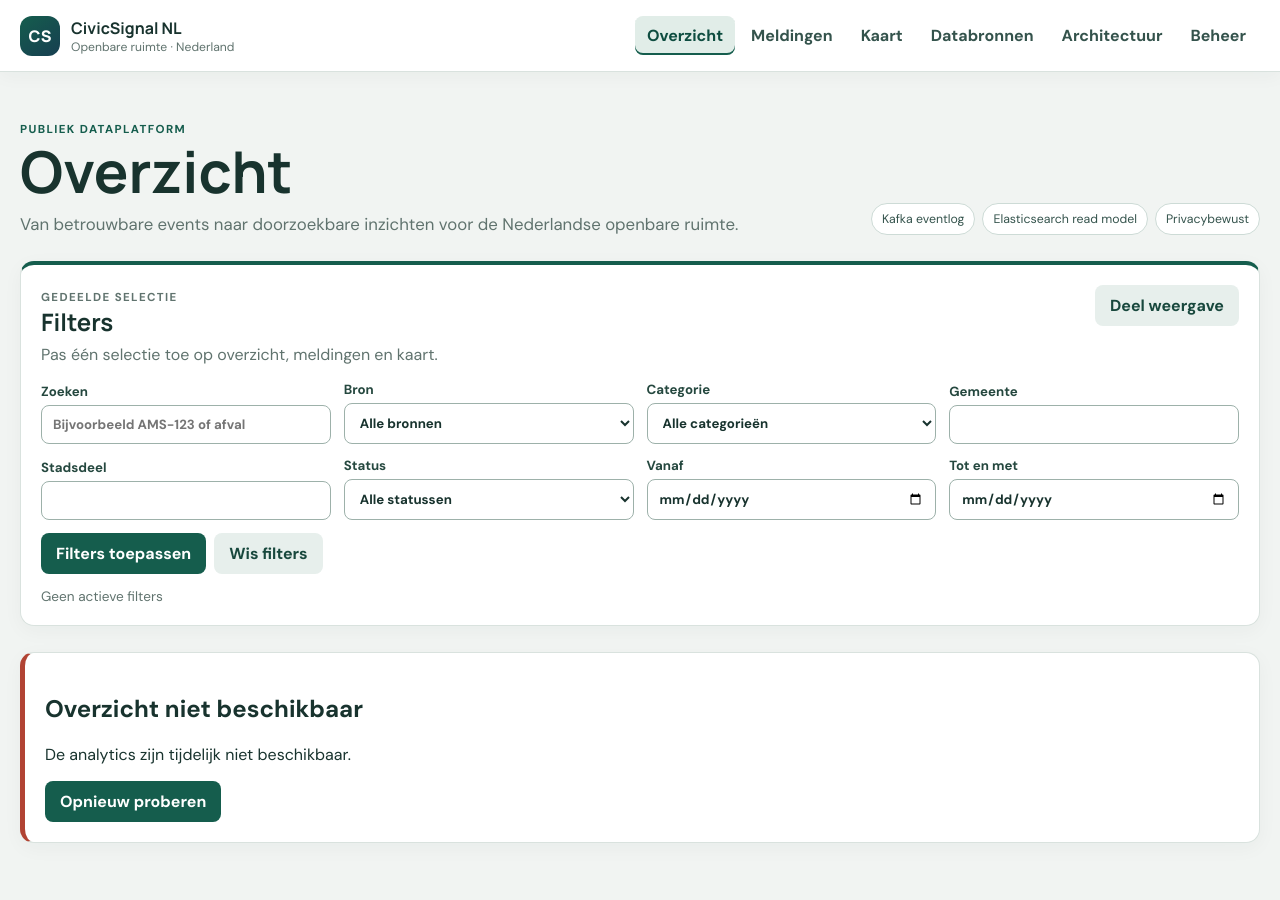
dashboardstate en navigatie › toont nul apart van null en isoleert analyticsfout met retry
Expected: the heading "Overzicht niet beschikbaar" is shown, [45,693,363,724]
Click the button "Opnieuw proberen": click(133, 801) [45,781,221,822]
(page scrolled)
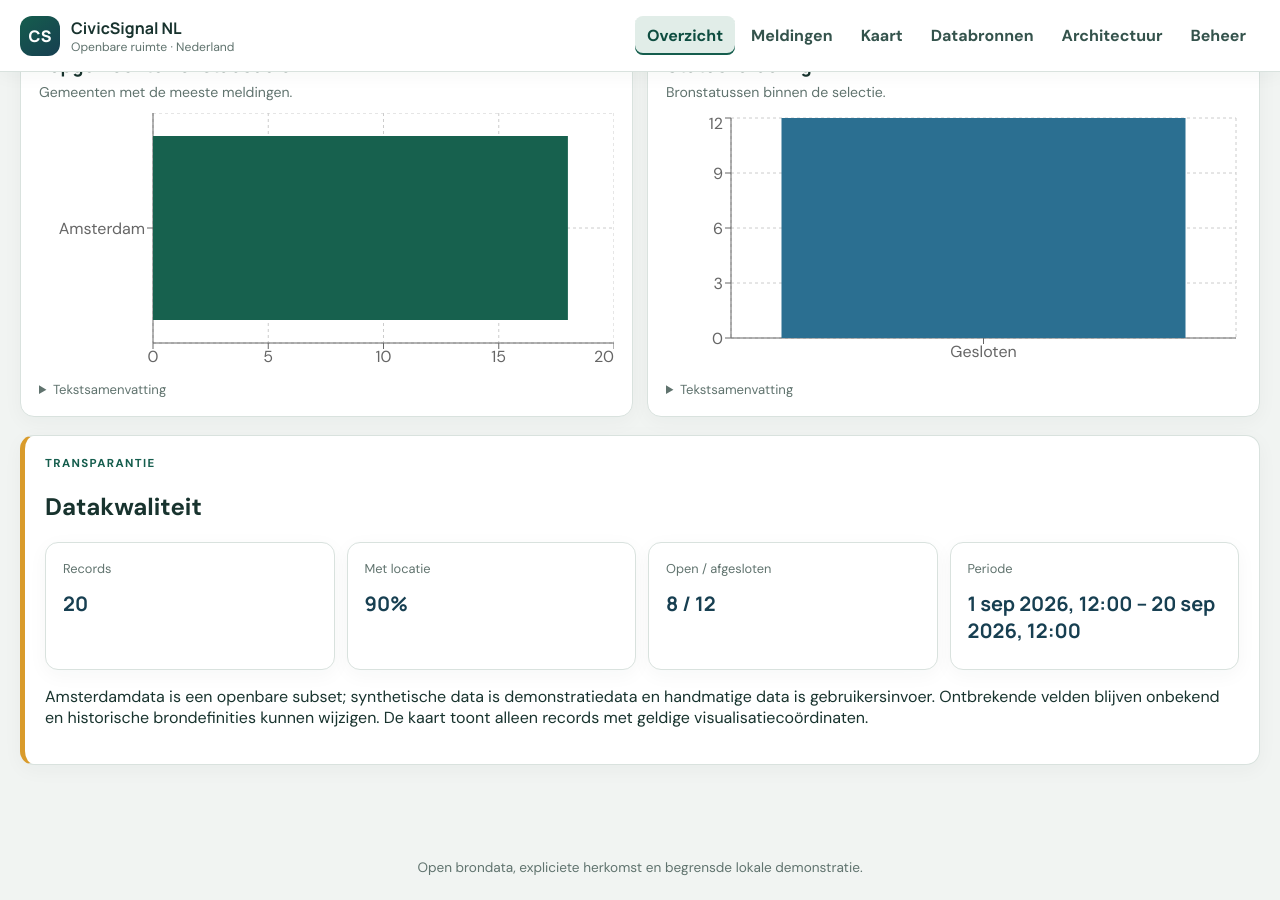
Expected: the text "90%" is shown, [364,590,408,617]
